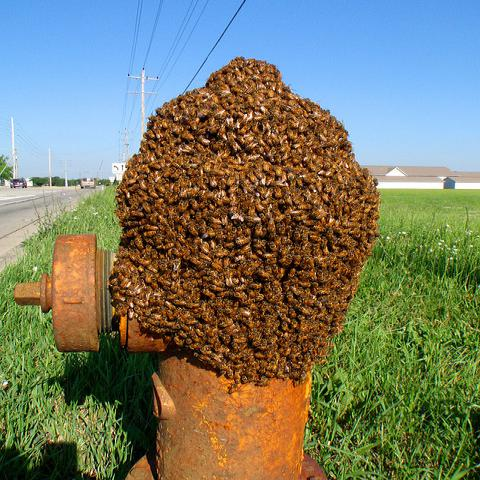car: (10, 177, 28, 188)
truck: (80, 178, 96, 188)
